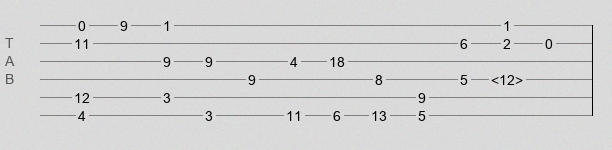0: (78, 18, 86, 28), (545, 36, 553, 46)
1: (163, 18, 171, 28), (503, 18, 511, 28)
11: (74, 36, 90, 46), (286, 108, 302, 118)
12: (74, 90, 90, 100)
13: (371, 108, 387, 118)
18: (329, 54, 345, 64)
2: (503, 36, 511, 46)
3: (163, 90, 171, 100), (205, 108, 213, 118)
4: (78, 108, 86, 118), (290, 54, 298, 64)
5: (418, 108, 426, 118), (460, 72, 468, 82)
6: (333, 108, 341, 118), (460, 36, 468, 46)
8: (375, 72, 383, 82)
9: (120, 18, 128, 28), (163, 54, 171, 64), (205, 54, 213, 64), (248, 72, 256, 82), (418, 90, 426, 100)
harmonic: (491, 72, 523, 82)
